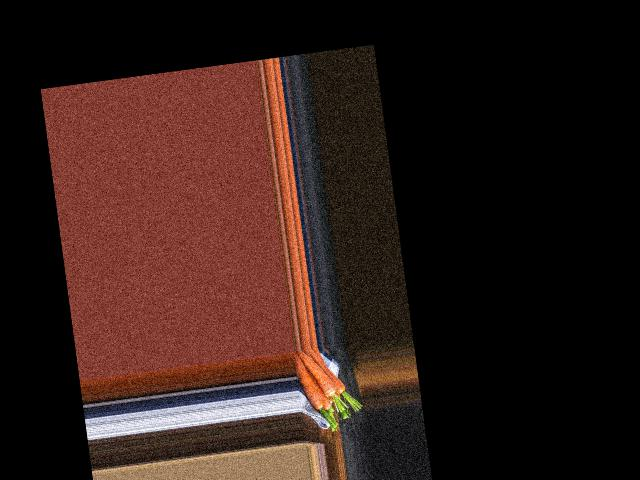carrot: (293, 348, 325, 419)
